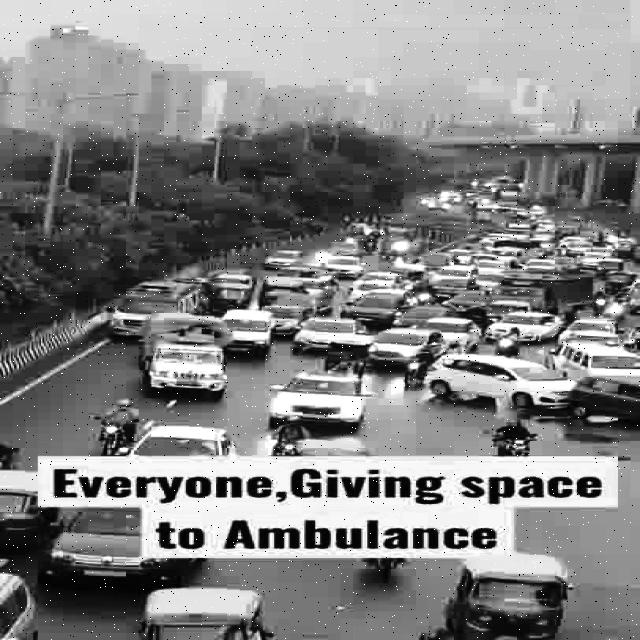Ambulance: (107, 279, 204, 314)
